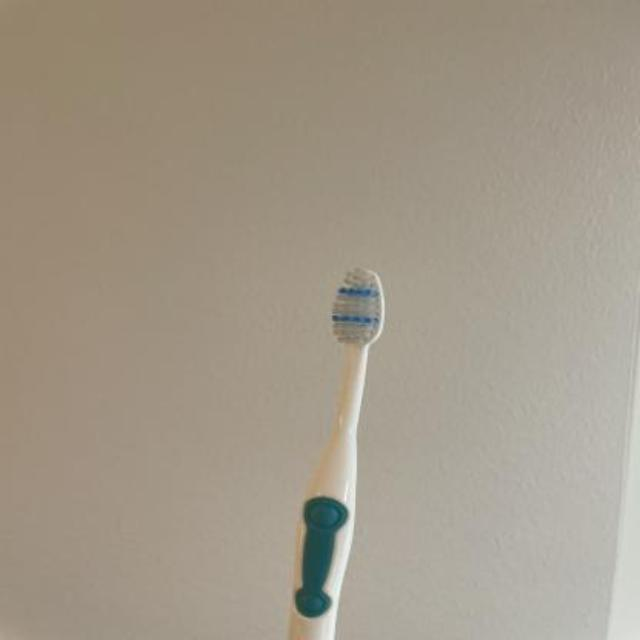toothbrush: (275, 256, 399, 640)
